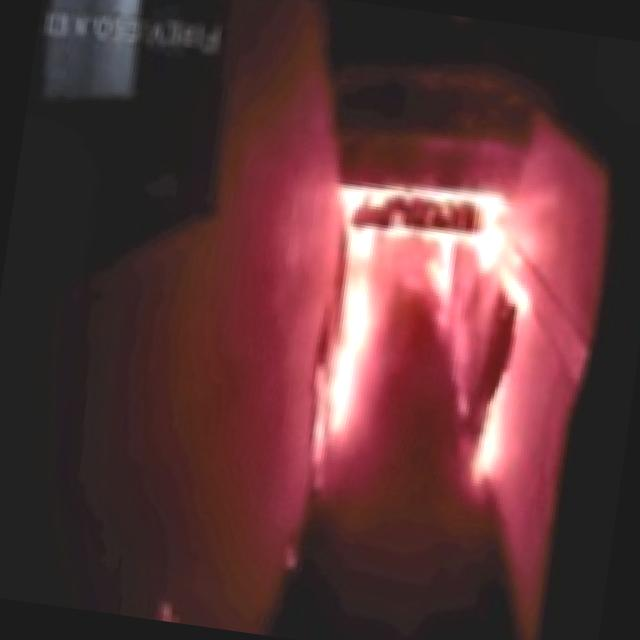fire: (250, 149, 551, 514)
